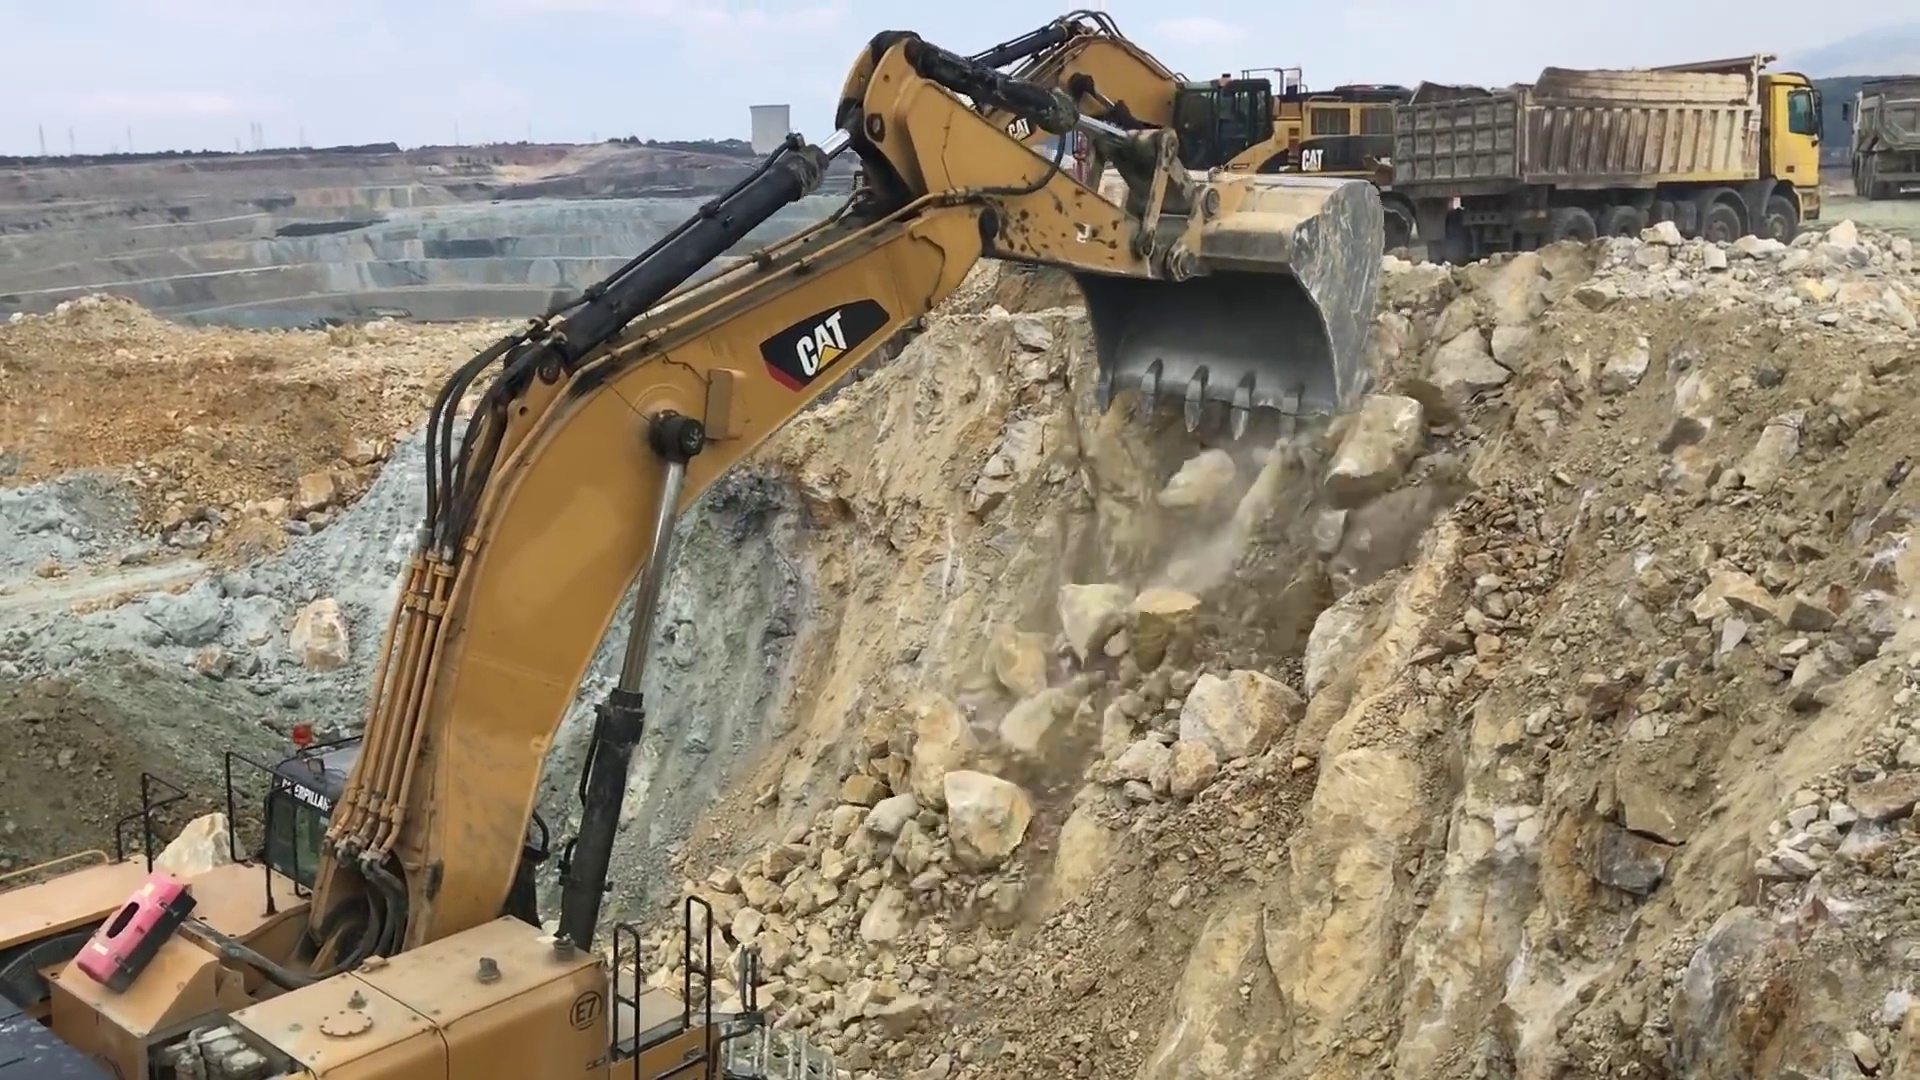excavator: (3, 8, 1389, 1042)
truck: (1396, 51, 1821, 258)
